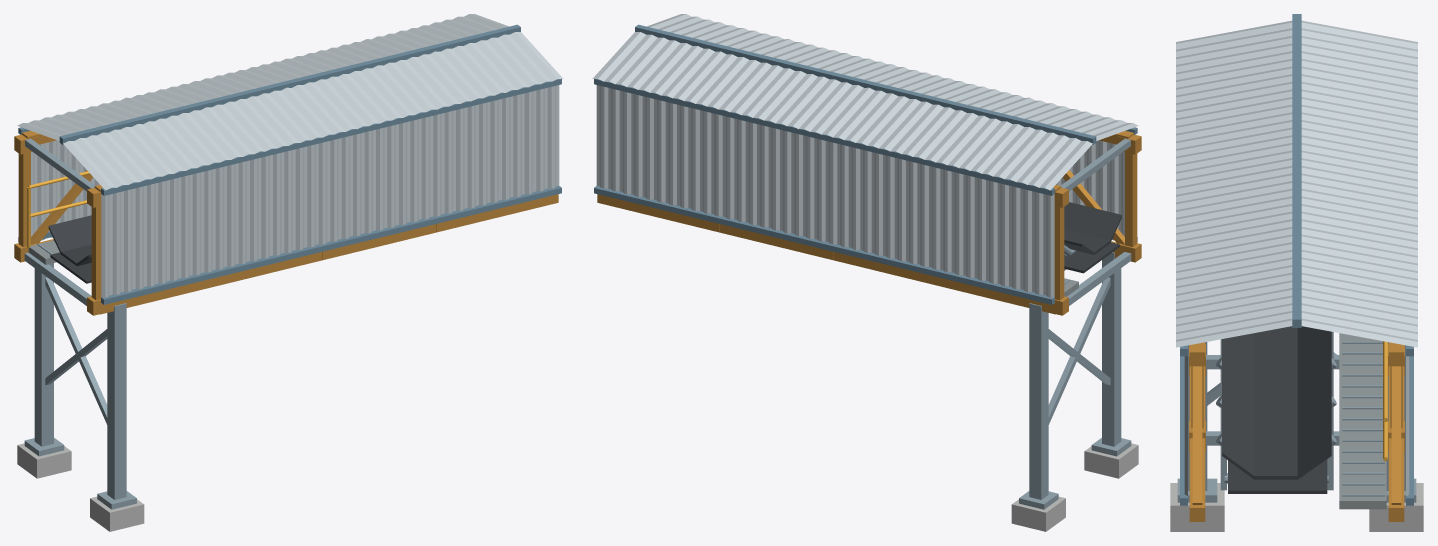
File: gallery-study.glb
The picture shows the model from 3 angles, left to right: view 1: azimuth 30°, elevation 25°; view 2: azimuth 150°, elevation 25°; view 3: azimuth 270°, elevation 25°; orthographic projection. The views are drawn at different scales.
Parts seen in each view (by area): view 1: WallNear_Light_corrugated_cladding, Roof_Light_corrugated_cladding, Support_Galvanised_steel, WallNear_Blue-grey_roof_flashing, Truss_Ochre_structural_coating, Roof_Blue-grey_roof_flashing, WallFar_Light_corrugated_cladding, Footings_Plinth_concrete, Belt_Graphite_belt, Crossframes_Galvanised_steel, Gussets_Ochre_structural_coating, Footings_Galvanised_steel (+1 smaller); view 2: WallFar_Light_corrugated_cladding, Roof_Light_corrugated_cladding, Support_Galvanised_steel, WallFar_Blue-grey_roof_flashing, Truss_Ochre_structural_coating, Roof_Blue-grey_roof_flashing, Belt_Graphite_belt, WallNear_Light_corrugated_cladding, Footings_Plinth_concrete, Crossframes_Galvanised_steel, Gussets_Ochre_structural_coating, Footings_Galvanised_steel; view 3: Roof_Light_corrugated_cladding, Belt_Graphite_belt, Walkway_Service_walkway, Truss_Ochre_structural_coating, Roof_Blue-grey_roof_flashing, Footings_Plinth_concrete, Tread_Galvanised_steel, Idlers_Galvanised_steel, Support_Galvanised_steel, WallNear_Blue-grey_roof_flashing, WallFar_Blue-grey_roof_flashing, Handrails_Safety_handrail (+5 smaller).
Part boxes in pixels (x1,y1,x2,y2): WallNear_Light_corrugated_cladding: (101, 85, 559, 303); Roof_Light_corrugated_cladding: (17, 14, 563, 190); Support_Galvanised_steel: (34, 263, 126, 499); WallNear_Blue-grey_roof_flashing: (101, 79, 561, 304); Truss_Ochre_structural_coating: (18, 130, 558, 314); Roof_Blue-grey_roof_flashing: (59, 24, 520, 144); WallFar_Light_corrugated_cladding: (31, 140, 99, 240); Footings_Plinth_concrete: (17, 443, 144, 531); Belt_Graphite_belt: (48, 215, 91, 283); Crossframes_Galvanised_steel: (24, 138, 95, 305); Gussets_Ochre_structural_coating: (14, 134, 454, 315); Footings_Galvanised_steel: (24, 438, 136, 509); WallFar_Light_corrugated_cladding: (596, 85, 1054, 303); Roof_Light_corrugated_cladding: (592, 14, 1138, 190); Support_Galvanised_steel: (1029, 252, 1121, 499); WallFar_Blue-grey_roof_flashing: (594, 79, 1054, 304); Truss_Ochre_structural_coating: (597, 130, 1137, 314); Roof_Blue-grey_roof_flashing: (635, 24, 1096, 144); Belt_Graphite_belt: (1064, 202, 1121, 273); WallNear_Light_corrugated_cladding: (1056, 140, 1124, 240); Footings_Plinth_concrete: (1011, 443, 1138, 531); Crossframes_Galvanised_steel: (1060, 138, 1131, 305); Gussets_Ochre_structural_coating: (701, 134, 1141, 315); Footings_Galvanised_steel: (1019, 438, 1131, 509); Roof_Light_corrugated_cladding: (1176, 20, 1417, 347); Belt_Graphite_belt: (1222, 326, 1331, 493); Walkway_Service_walkway: (1339, 333, 1386, 509); Truss_Ochre_structural_coating: (1189, 342, 1404, 521); Roof_Blue-grey_roof_flashing: (1292, 14, 1301, 327); Footings_Plinth_concrete: (1170, 483, 1423, 531); Tread_Galvanised_steel: (1342, 341, 1384, 496); Idlers_Galvanised_steel: (1216, 332, 1336, 490); Support_Galvanised_steel: (1188, 342, 1405, 490); WallNear_Blue-grey_roof_flashing: (1180, 345, 1187, 505); WallFar_Blue-grey_roof_flashing: (1406, 345, 1413, 505); Handrails_Safety_handrail: (1383, 341, 1387, 461).
Bounding box in the file's own units: 4.06 × 3.01 × 1.4.
